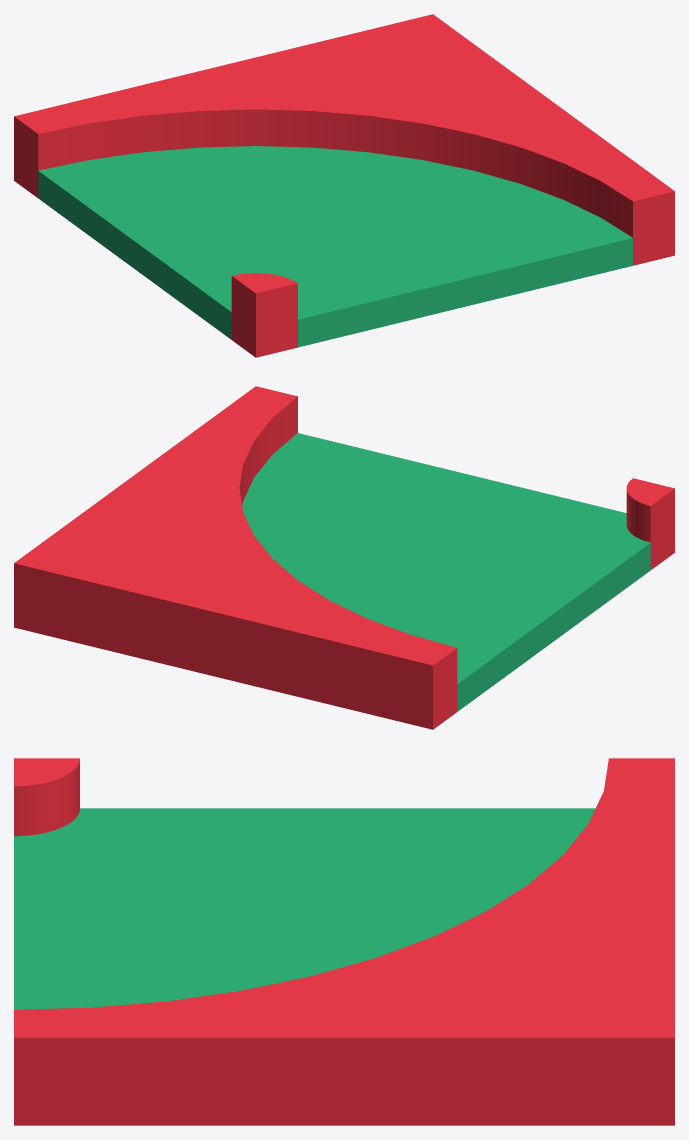
Rendered from roundCornerB.obj.
The picture shows the model from 3 angles, top to bottom: view 1: azimuth 30°, elevation 25°; view 2: azimuth 150°, elevation 25°; view 3: azimuth 270°, elevation 25°; orthographic projection. The views are drawn at different scales.
Visible parts, largest first — view 1: roundCornerB; view 2: roundCornerB; view 3: roundCornerB.
Boxes of the visible parts, bbox=[...] form: roundCornerB: bbox=[14, 14, 674, 357]; roundCornerB: bbox=[14, 386, 674, 729]; roundCornerB: bbox=[14, 758, 674, 1125].
Size of the model in its own units: 0.9999 by 0.1467 by 0.9999.
